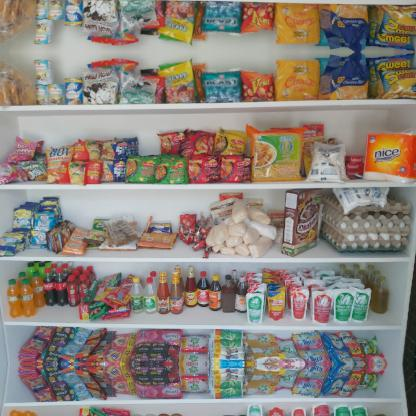Koko-Krunch: (279, 188, 323, 254)
